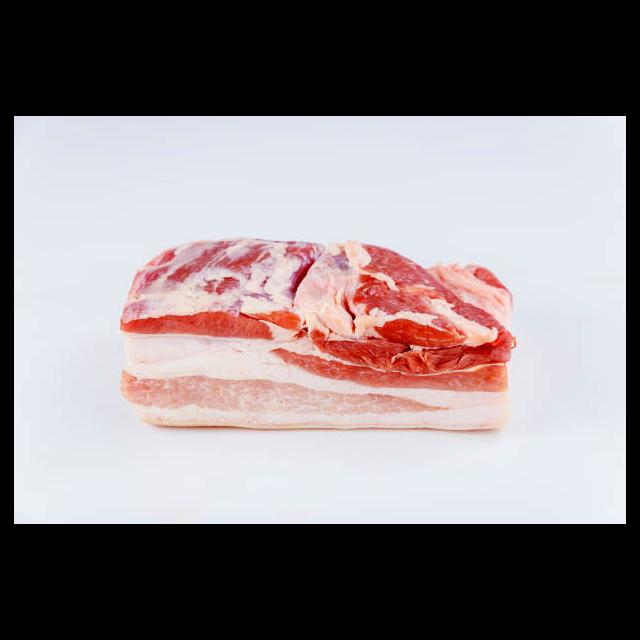pork: (113, 230, 526, 446)
